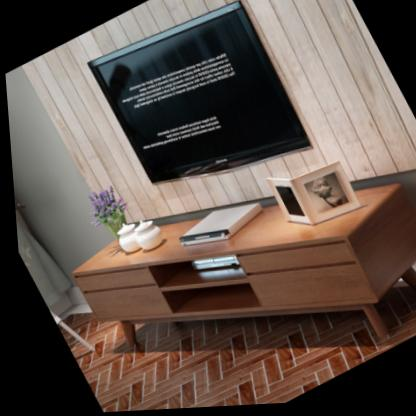TV stand: (67, 187, 416, 349)
